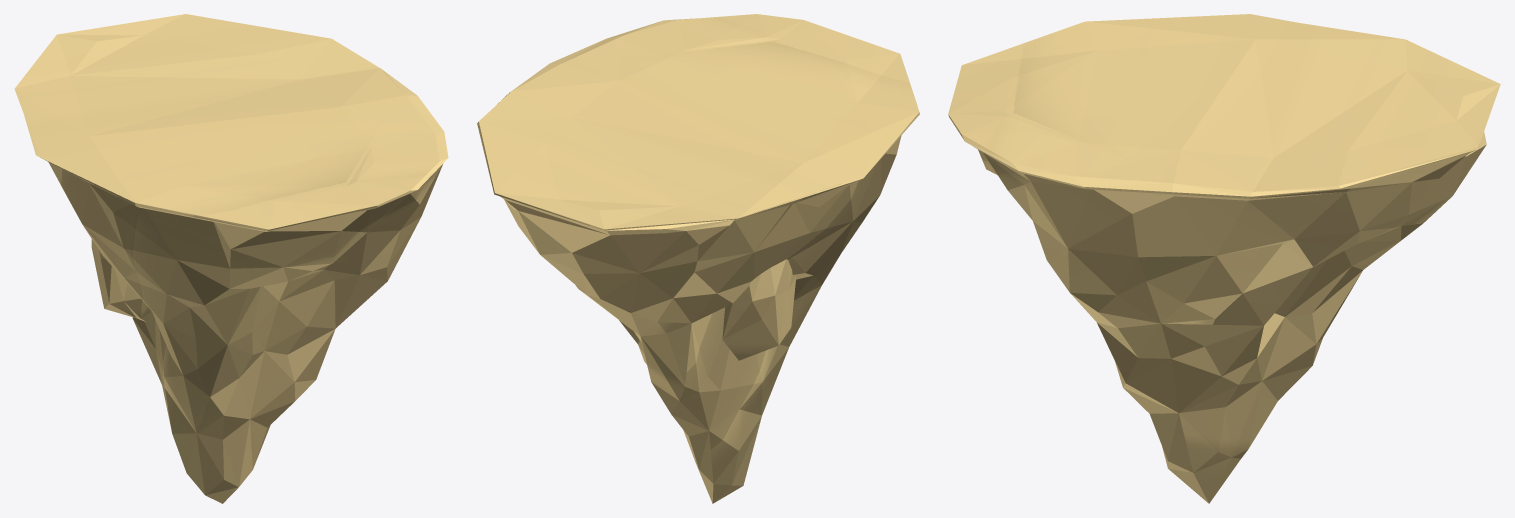
File: island.obj
3 views of the same model, side by side, from view 1: azimuth 30°, elevation 25°; view 2: azimuth 150°, elevation 25°; view 3: azimuth 270°, elevation 25° (orthographic). The views are drawn at different scales.
Size of the model in its own units: 105 by 110 by 135.
